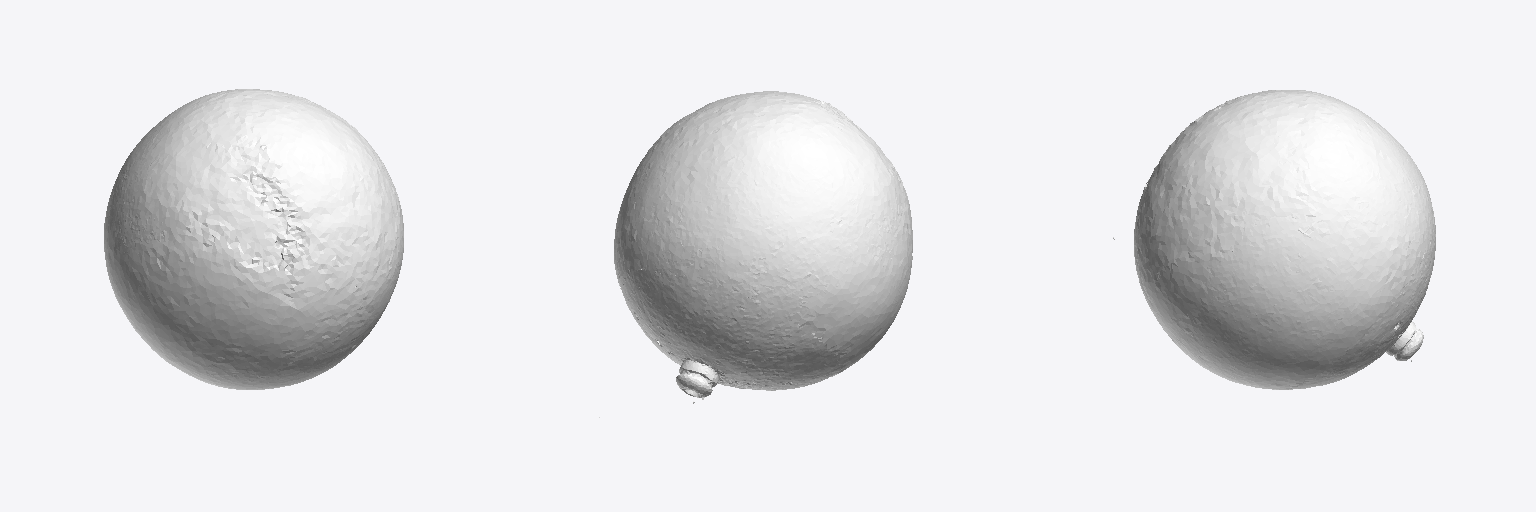
Rendered from GrenadeFixed.obj.
3 views of the same model, side by side, from view 1: azimuth 30°, elevation 25°; view 2: azimuth 150°, elevation 25°; view 3: azimuth 270°, elevation 25° (orthographic).
Parts seen in each view (by area): view 1: Grenade; view 2: Grenade; view 3: Grenade.
Boxes of the visible parts, <box> form: Grenade: <box>104,89,403,389</box>; Grenade: <box>599,91,912,417</box>; Grenade: <box>1113,90,1435,389</box>.
Size of the model in its own units: 11.15 by 12.5 by 12.44.